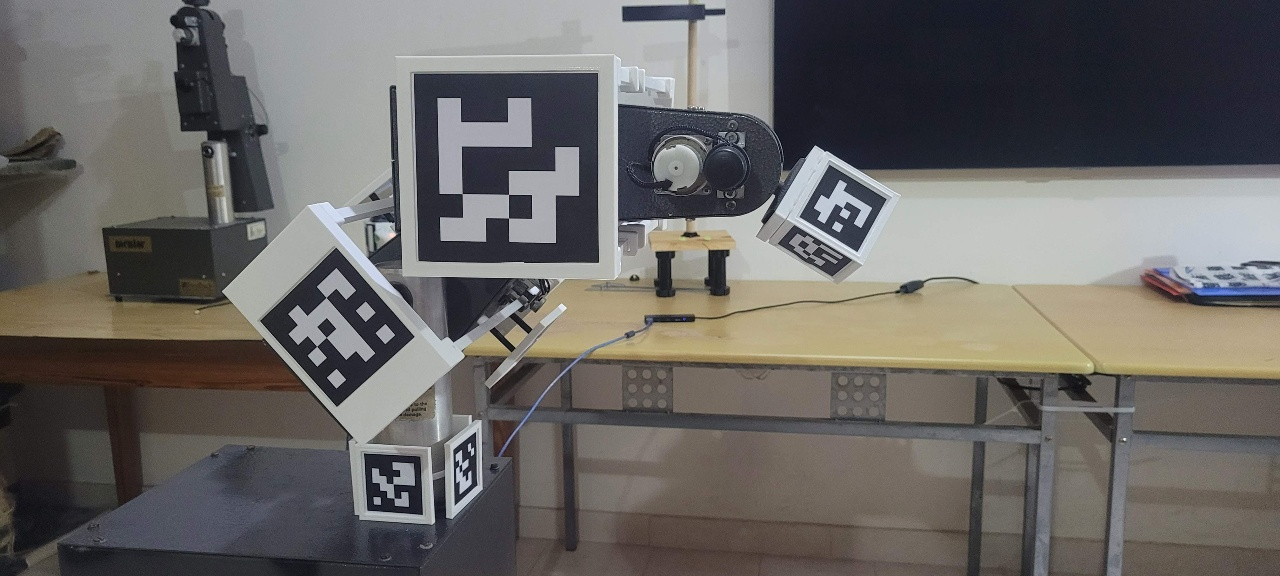Robot: (220, 53, 902, 527)
